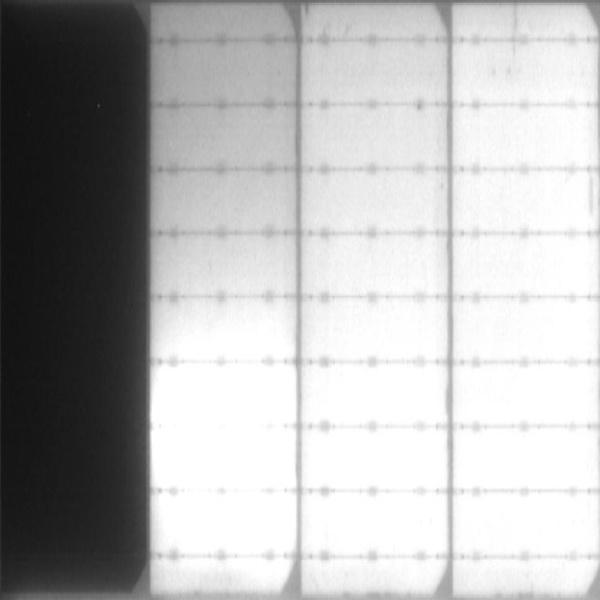hot_spot: (156, 365, 291, 485), (306, 496, 442, 552), (458, 498, 597, 549), (154, 499, 290, 551), (307, 433, 445, 482), (460, 433, 589, 480), (463, 371, 585, 418), (309, 372, 441, 415), (484, 308, 585, 353), (311, 562, 432, 591), (173, 324, 282, 350)
no_electricity: (1, 1, 150, 592)
